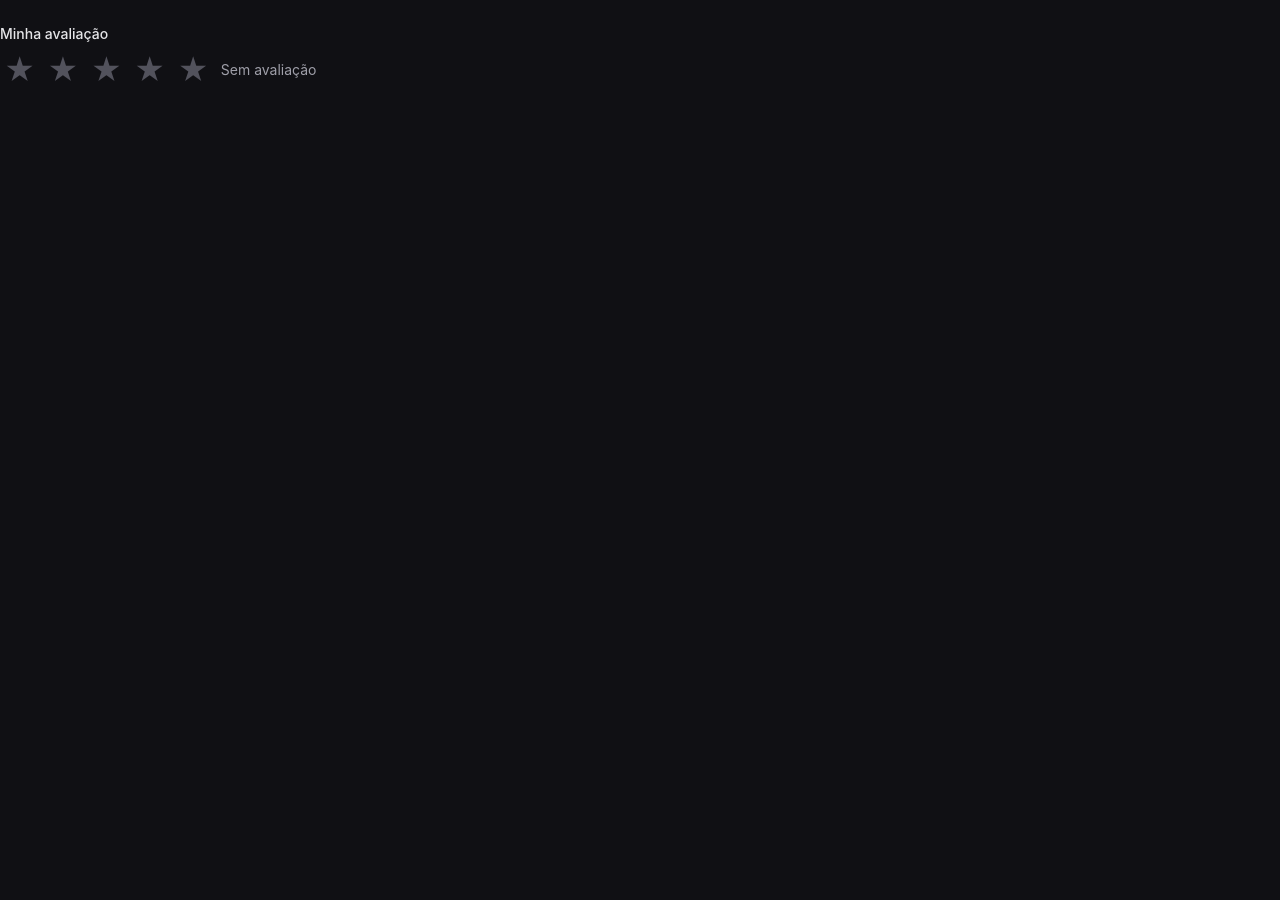
Test: interações reais dos componentes › salva, altera e remove avaliação por estrelas
Click the button named "Avaliar com 4 estrelas" at (150, 70), box [130,52,170,88]
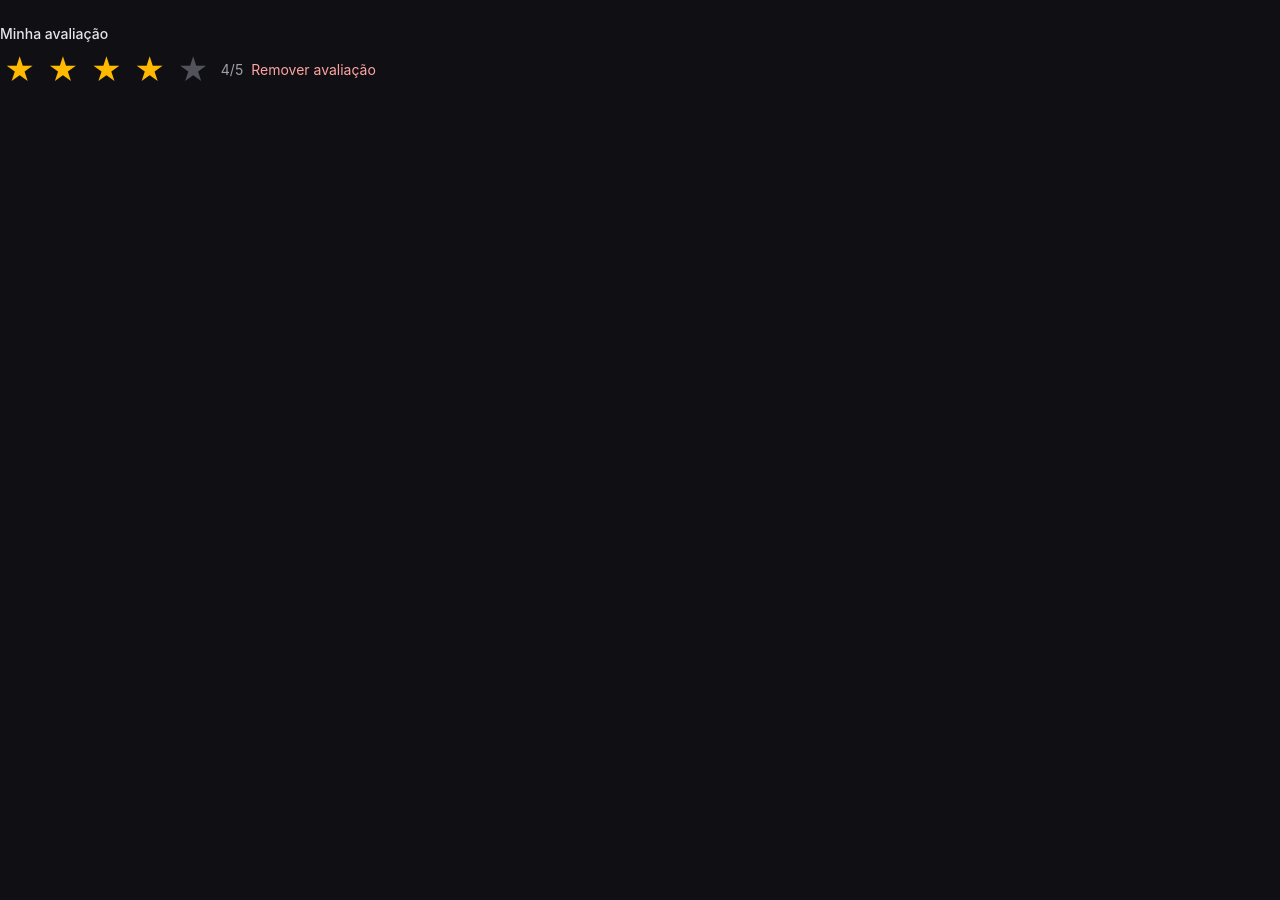
Expected: the text "4/5" is shown, [221,60,243,80]
Click the button named "Avaliar com 5 estrelas" at (193, 70), box [173,52,213,88]
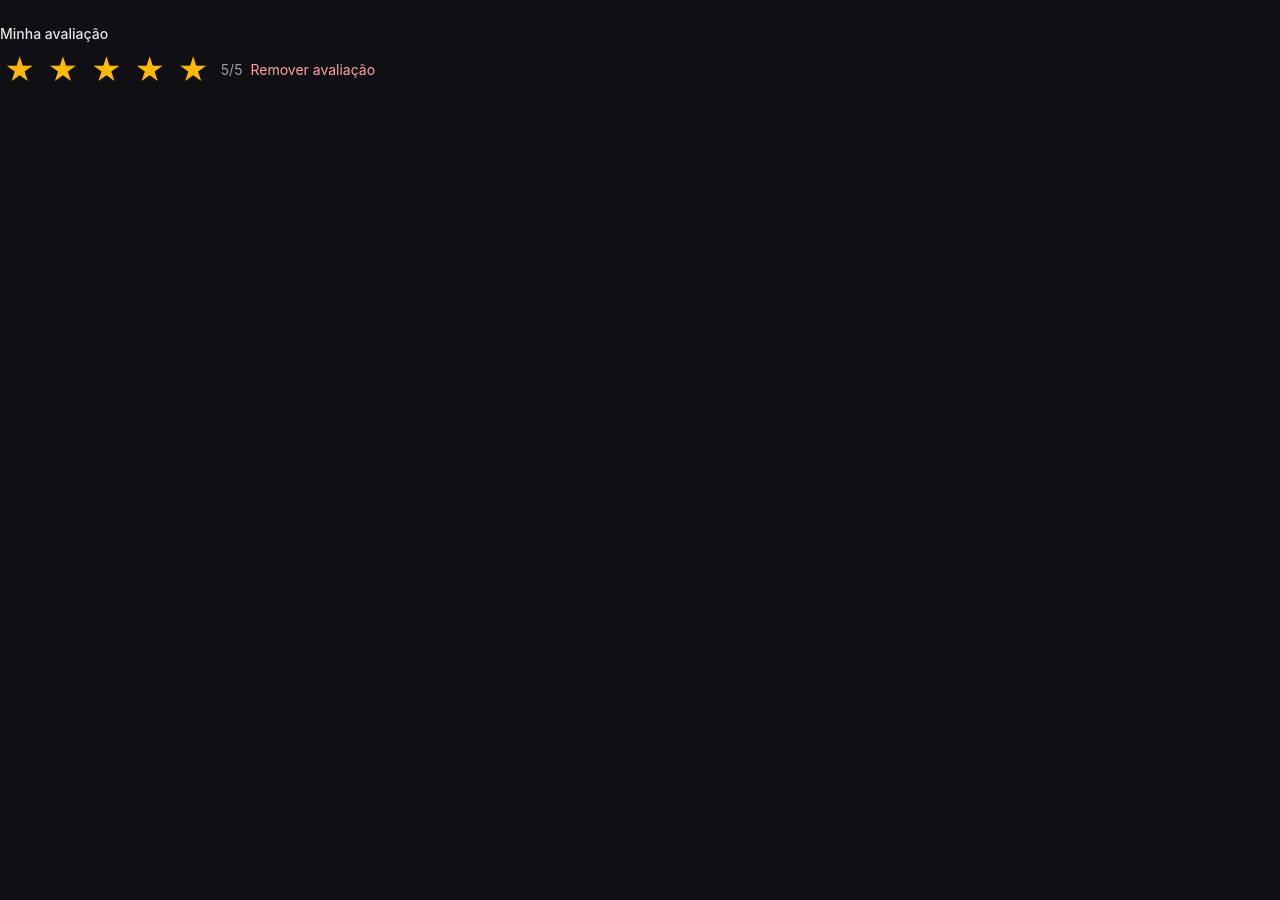
Expected: the text "5/5" is shown, [221,60,242,80]
Click the button "Remover avaliação" at (313, 70), box [250,60,375,80]
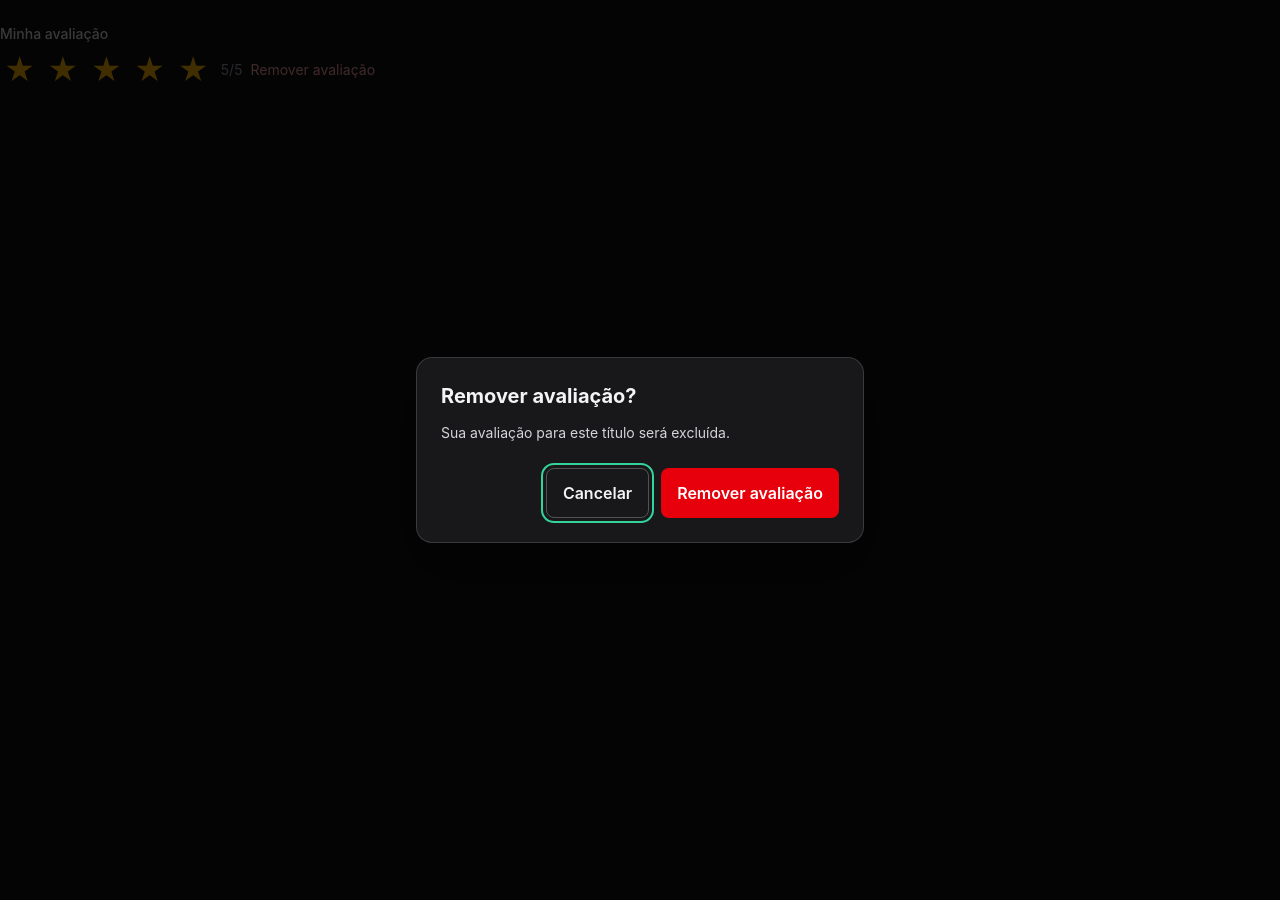
Click the button "Remover avaliação" at (750, 493), box [661,468,839,518]
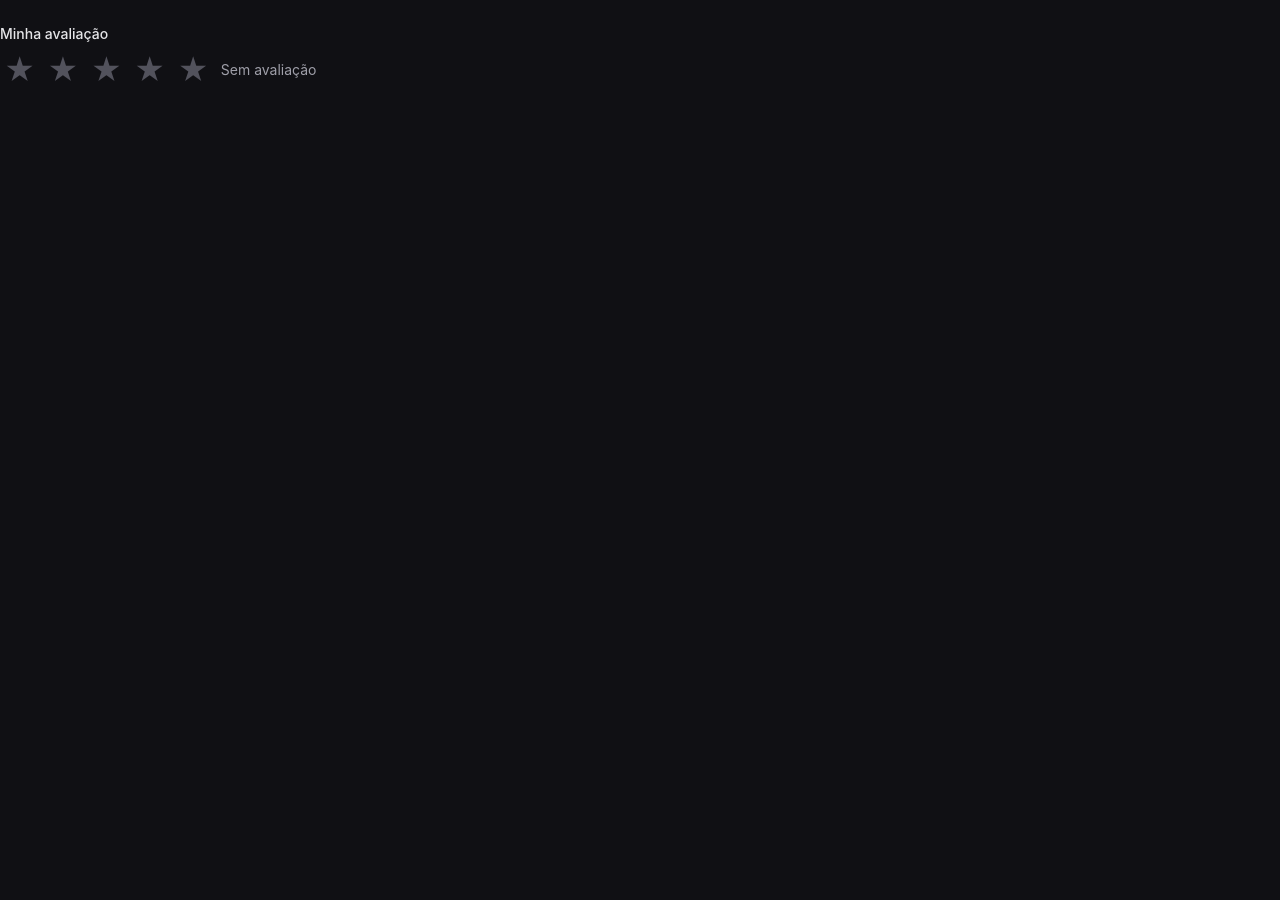
Expected: the text "Sem avaliação" is shown, [221,60,316,80]
